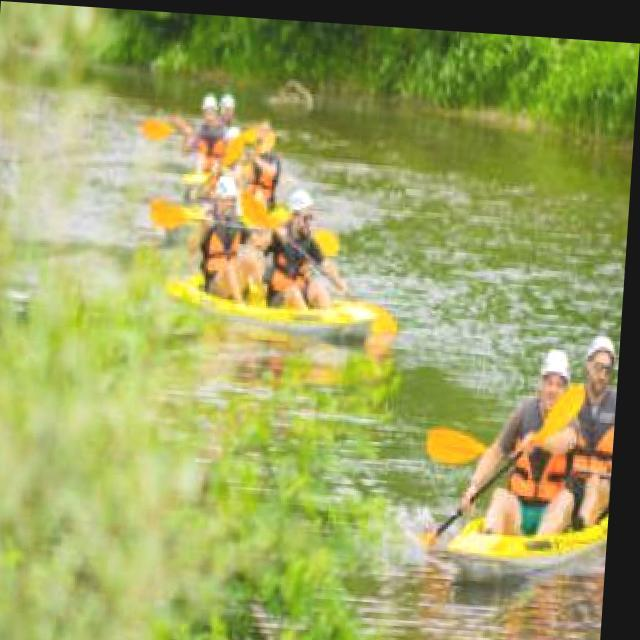kayak: (440, 498, 616, 558)
